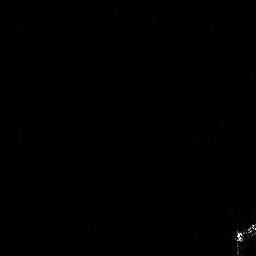ship: (229, 220, 256, 246)
